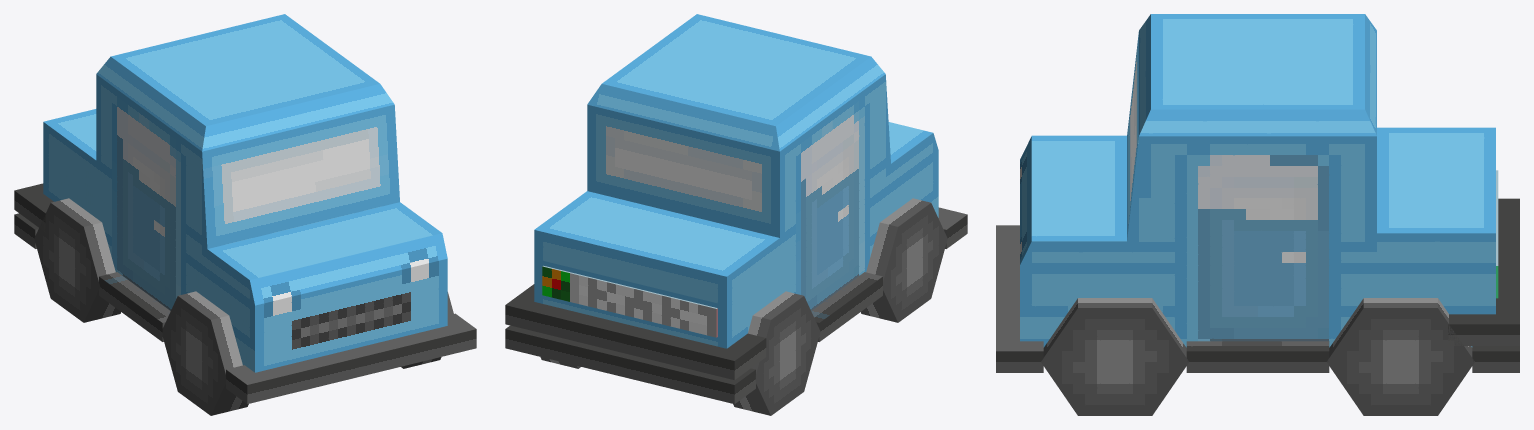
3 views of the same model, side by side, from view 1: azimuth 30°, elevation 25°; view 2: azimuth 150°, elevation 25°; view 3: azimuth 270°, elevation 25° (orthographic). The views are drawn at different scales.
Parts seen in each view (by area): view 1: Frame, WheelRightBottom, WheelRightFront; view 2: Frame, WheelRightFront, WheelRightBottom; view 3: Frame, WheelLeftfront, WheelLeftBottom.
Boxes of the visible parts, x1,y1,x2,y2 form: Frame: (14,14,476,403); WheelRightBottom: (34,198,120,322); WheelRightFront: (162,291,248,415); Frame: (505,14,967,403); WheelRightFront: (861,198,947,322); WheelRightBottom: (733,291,820,415); Frame: (996,14,1519,372); WheelLeftfront: (1041,298,1188,415); WheelLeftBottom: (1327,298,1474,415).
Bounding box in the file's own units: 1.56 × 1.69 × 2.75.
2 materials, 2 textured.
